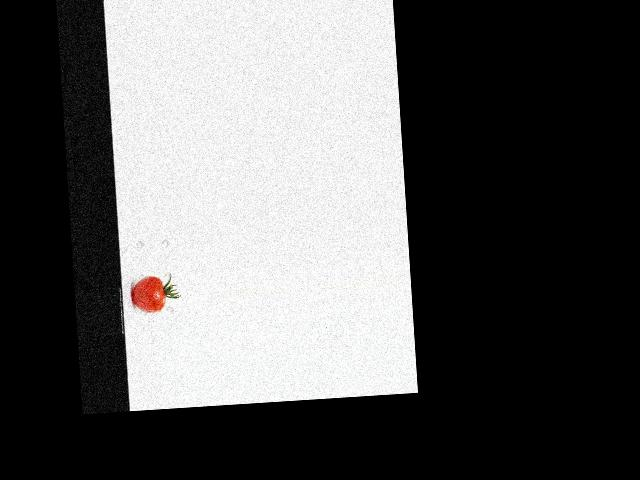tomato: (131, 274, 165, 313)
